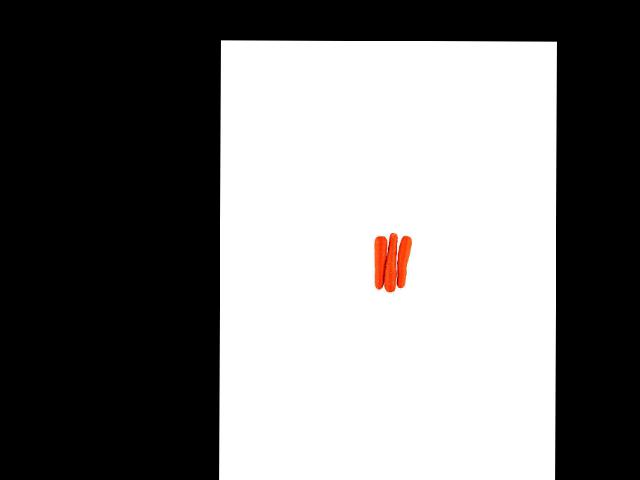carrot: (372, 232, 386, 294)
